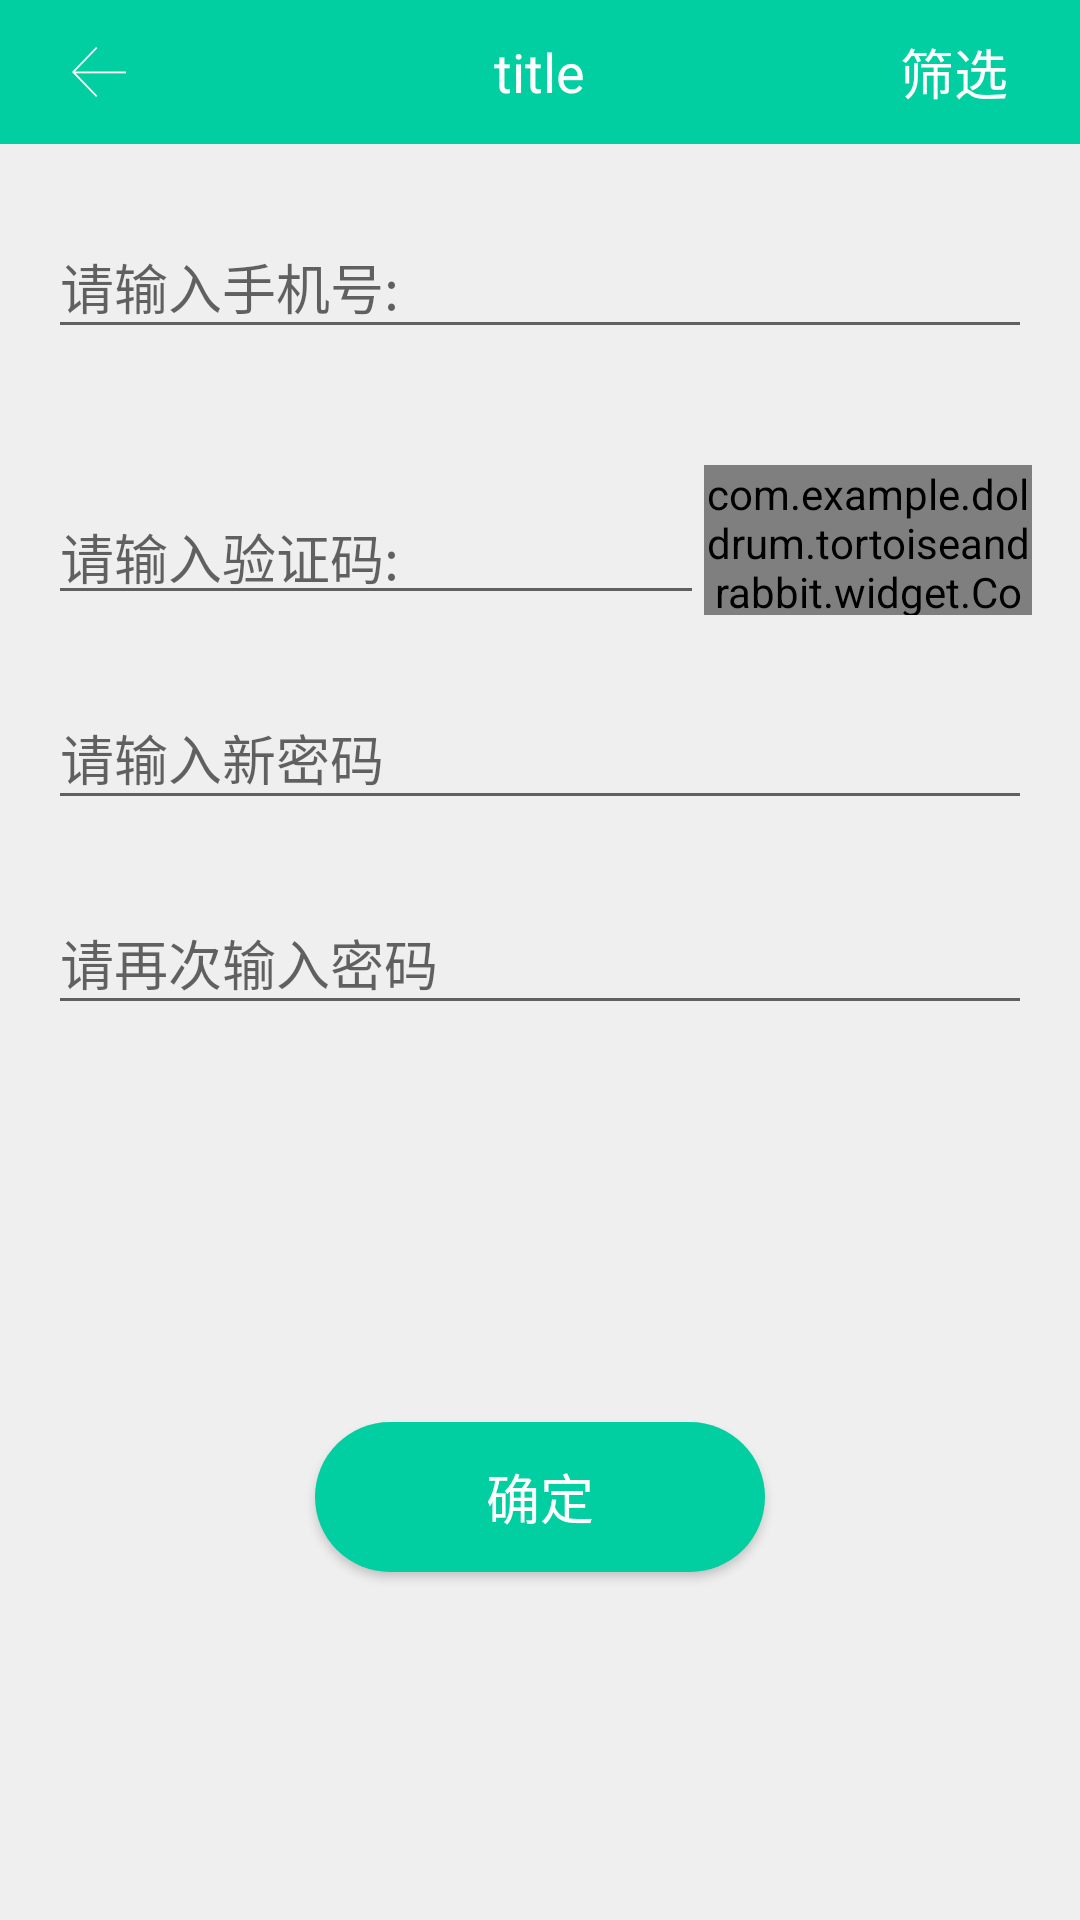

Icon click points for this 1080w x 1920h phone screenshot, format point (x, y):
back: point (99, 72)
